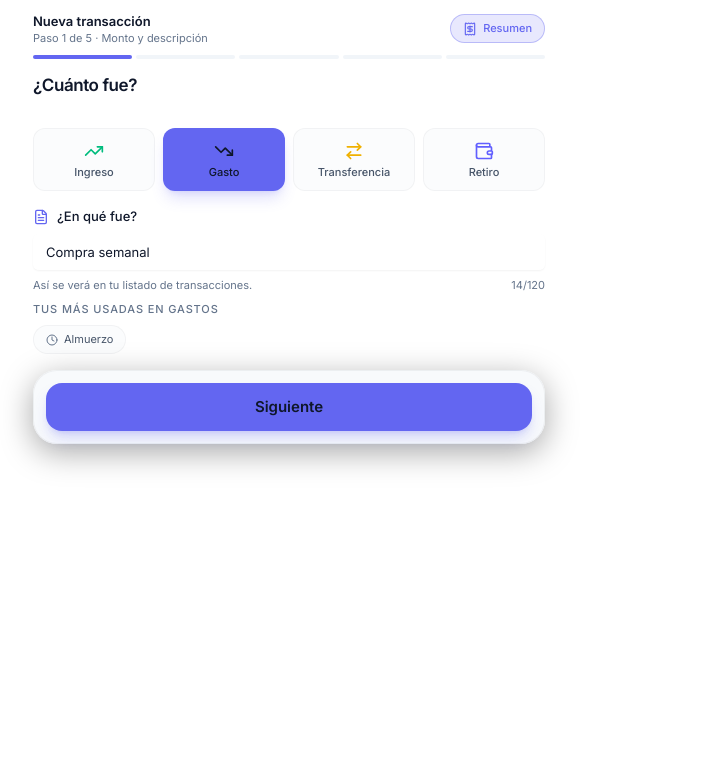
Test: TransactionWizard — notes › auto-generates the notes while creating
Step 1. Click the button "Resumen" → (498, 29), box x1=450 y1=14 x2=545 y2=43
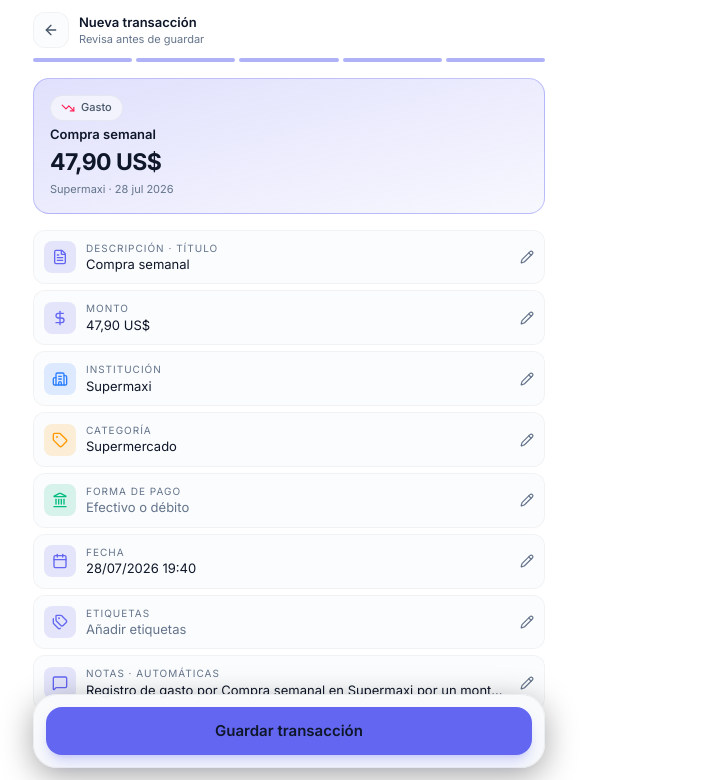
Expected: the text "Registro de gasto por Compra semanal en Supermaxi" is shown, x1=86 y1=682 x2=692 y2=698
